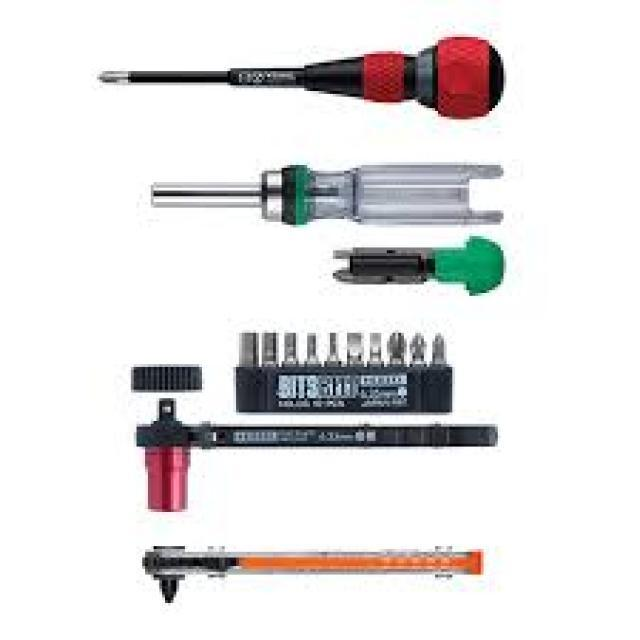screwdriver: (92, 30, 514, 124)
